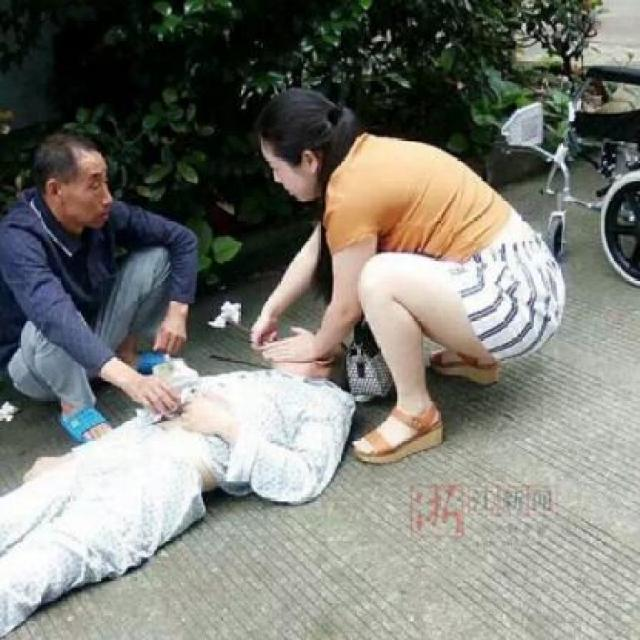fall: (0, 310, 366, 638)
